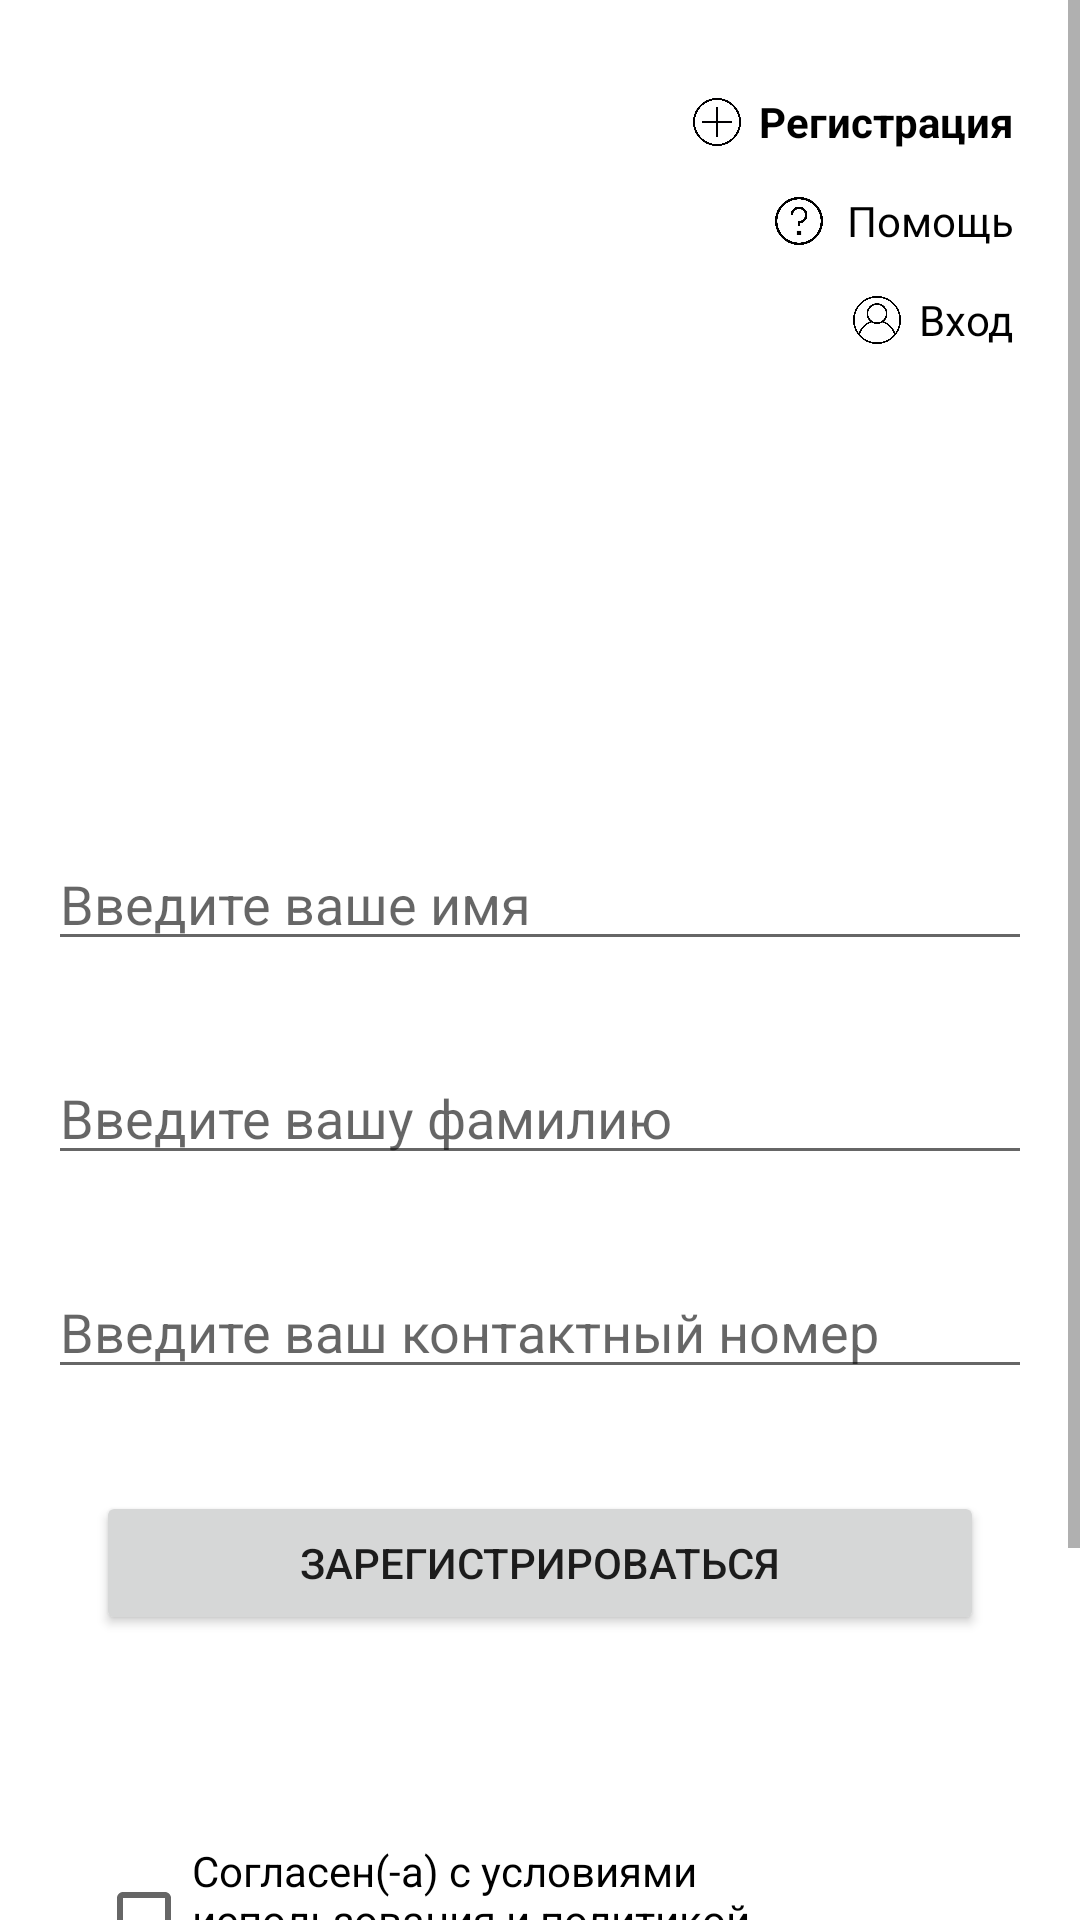

Point at icon controls on the screen. Image size 1080 x 1920, points as point (x, y).
add: point (717, 122)
help: point (799, 221)
user: point (877, 320)
